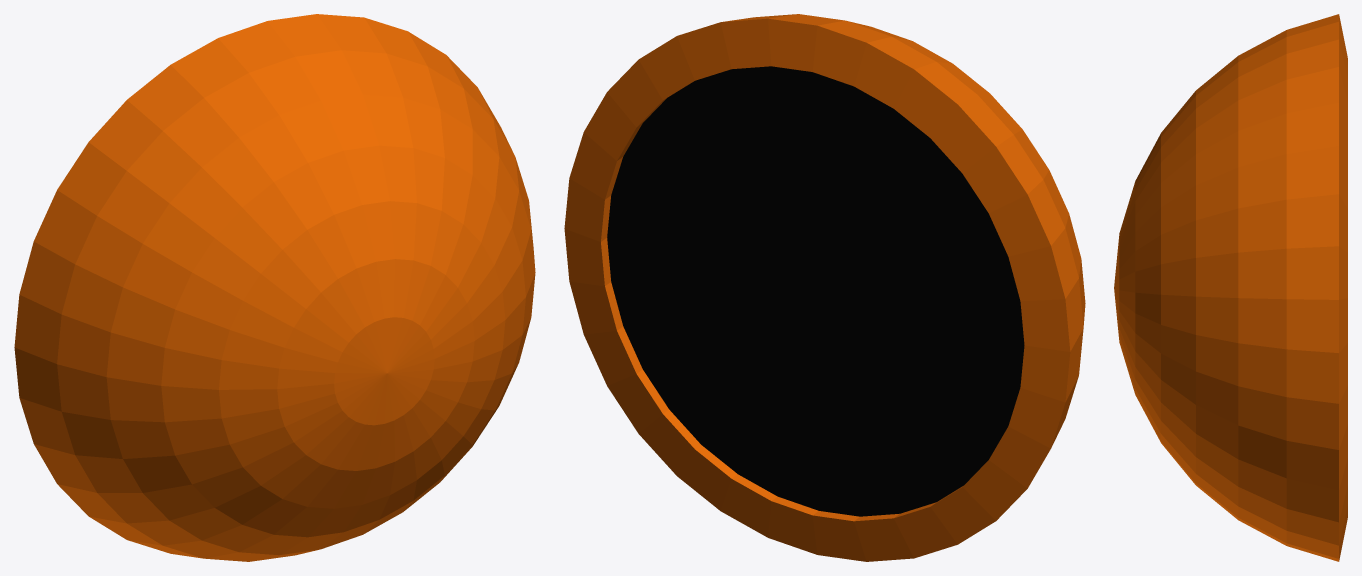
The model's file is head.dae.
3 renders of one model, left to right at view 1: azimuth 30°, elevation 25°; view 2: azimuth 150°, elevation 25°; view 3: azimuth 270°, elevation 25°, orthographic. The views are drawn at different scales.
Visible parts, largest first — view 1: Head; view 2: Head; view 3: Head.
Boxes of the visible parts, <box> form: Head: <box>14,14,535,561</box>; Head: <box>564,14,1085,561</box>; Head: <box>1114,14,1347,561</box>.
Size of the model in its own units: 1.23 by 0.5239 by 1.23.
